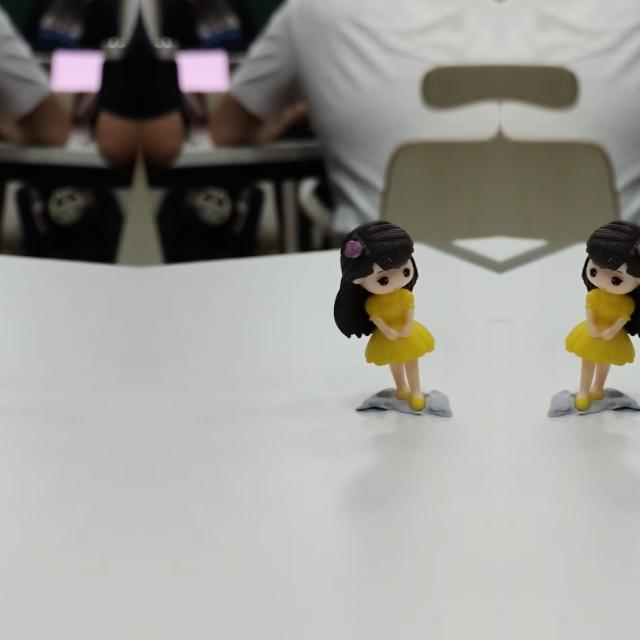woman head: (338, 222, 418, 294), (581, 222, 640, 294)
